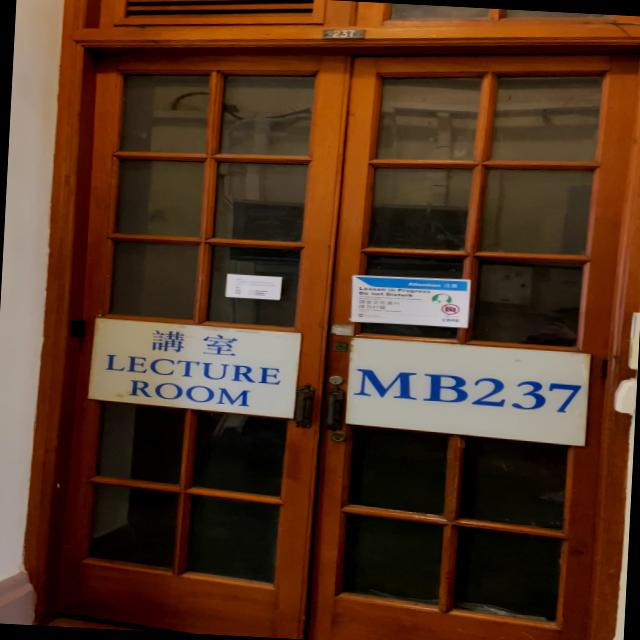room237: (318, 24, 372, 46)
room237Window: (357, 359, 583, 426)
